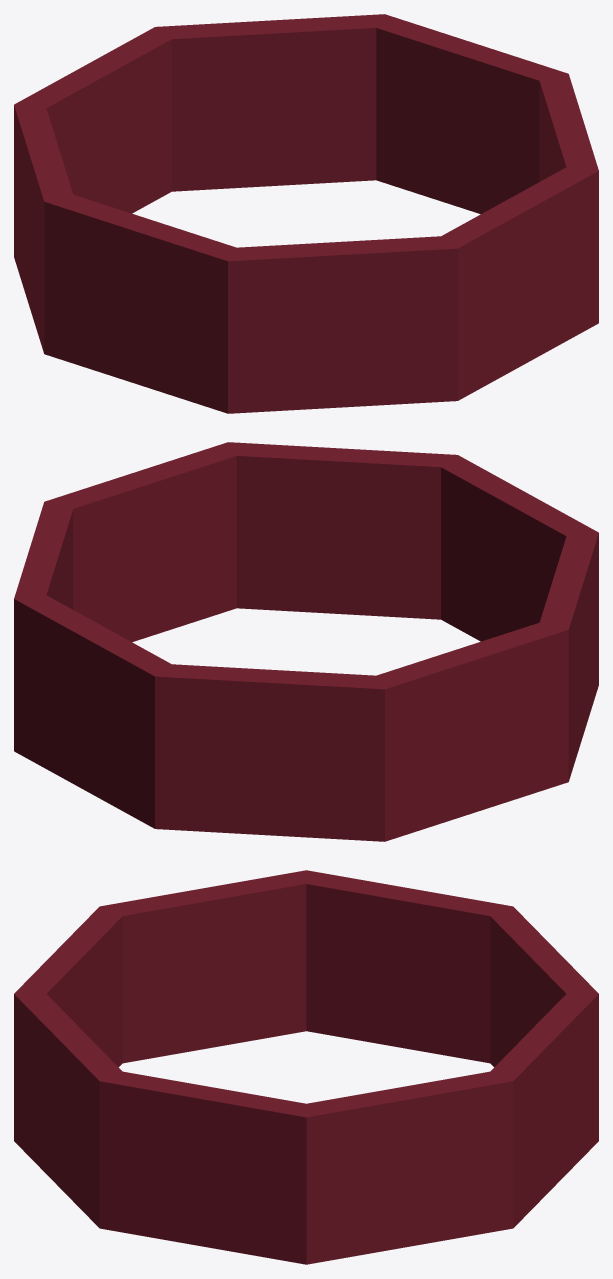
File: Tower_MID.fbx
The picture shows the model from 3 angles, top to bottom: view 1: azimuth 30°, elevation 25°; view 2: azimuth 150°, elevation 25°; view 3: azimuth 270°, elevation 25°; orthographic projection. The views are drawn at different scales.
Visible parts, largest first — view 1: tower_middle_001_msh; view 2: tower_middle_001_msh; view 3: tower_middle_001_msh.
Boxes of the visible parts, box(x1,y1,x2,y2) form: tower_middle_001_msh: box(14, 14, 598, 413); tower_middle_001_msh: box(14, 442, 598, 841); tower_middle_001_msh: box(14, 870, 598, 1264).
Bounding box in the file's own units: 360 × 100 × 360.
